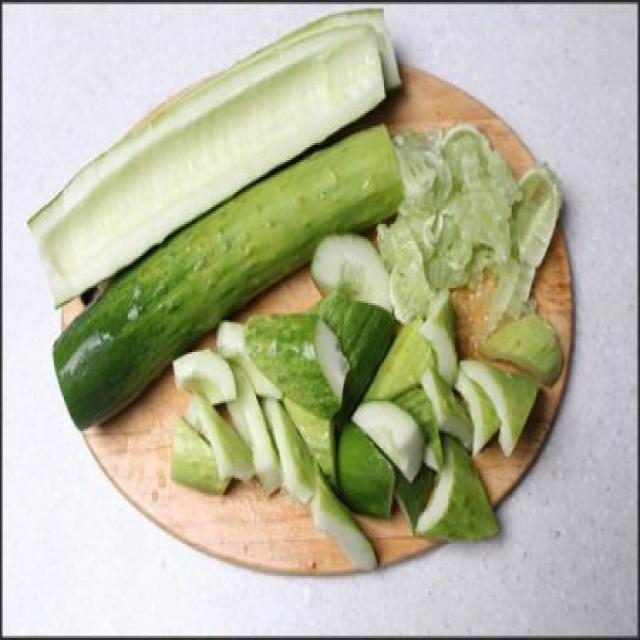cucumber: (25, 9, 622, 566), (31, 20, 385, 284), (180, 324, 394, 564), (369, 276, 583, 452), (406, 444, 528, 532)
